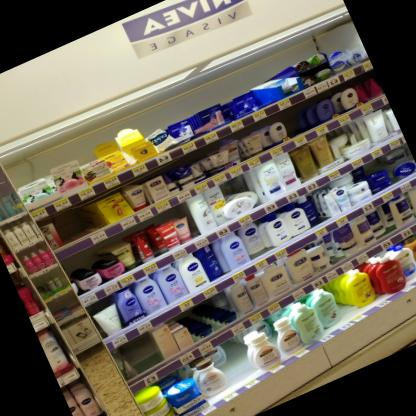empty_space: (52, 205, 94, 244), (215, 347, 252, 389), (120, 333, 159, 372), (279, 105, 307, 137)
